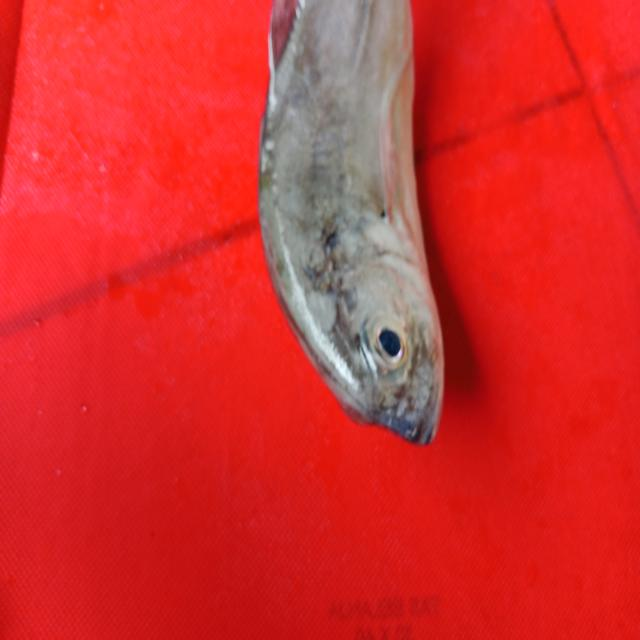ikan: (228, 14, 476, 468)
